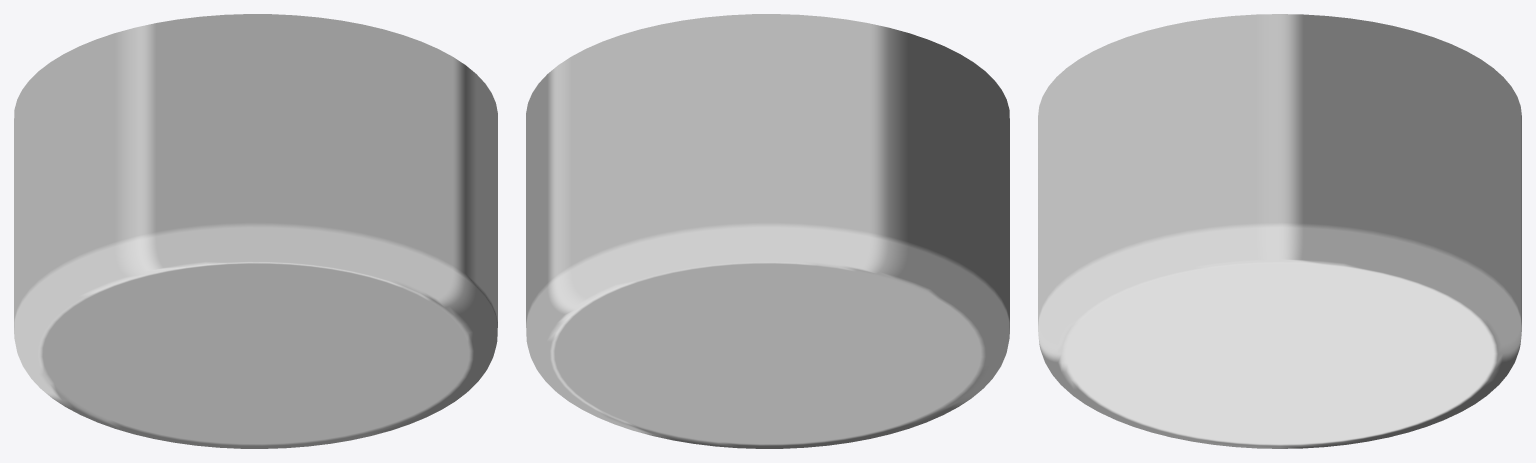
Rendered from studio_vehicles_ingame_preview.glb.
3 views of the same model, side by side, from view 1: azimuth 30°, elevation 25°; view 2: azimuth 150°, elevation 25°; view 3: azimuth 270°, elevation 25° (orthographic).
Visible parts, largest first — view 1: StaticMesh/studio_vehicles_ingame_preview/environment_midgro; view 2: StaticMesh/studio_vehicles_ingame_preview/environment_midgro; view 3: StaticMesh/studio_vehicles_ingame_preview/environment_midgro.
Part boxes in pixels (x1,y1,x2,y2): StaticMesh/studio_vehicles_ingame_preview/environment_midgro: [14, 14, 497, 448]; StaticMesh/studio_vehicles_ingame_preview/environment_midgro: [526, 14, 1009, 448]; StaticMesh/studio_vehicles_ingame_preview/environment_midgro: [1038, 14, 1521, 448].
Bounding box in the file's own units: 21.37 × 11.58 × 21.37.
1 material, 1 textured.
